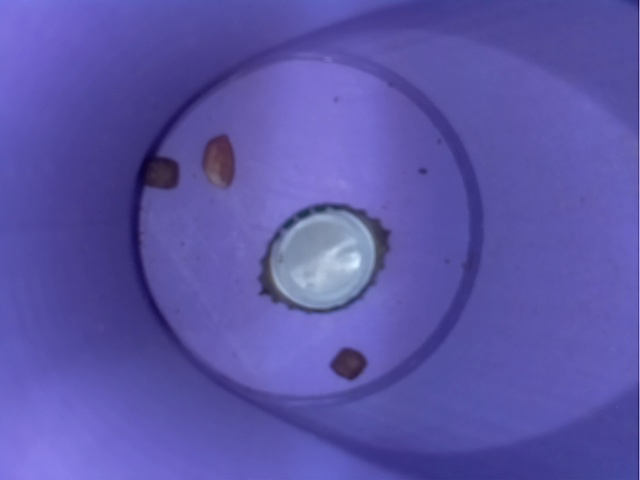capsule: (254, 195, 392, 319)
croquette: (195, 132, 244, 193), (321, 342, 375, 387), (137, 149, 185, 198)
